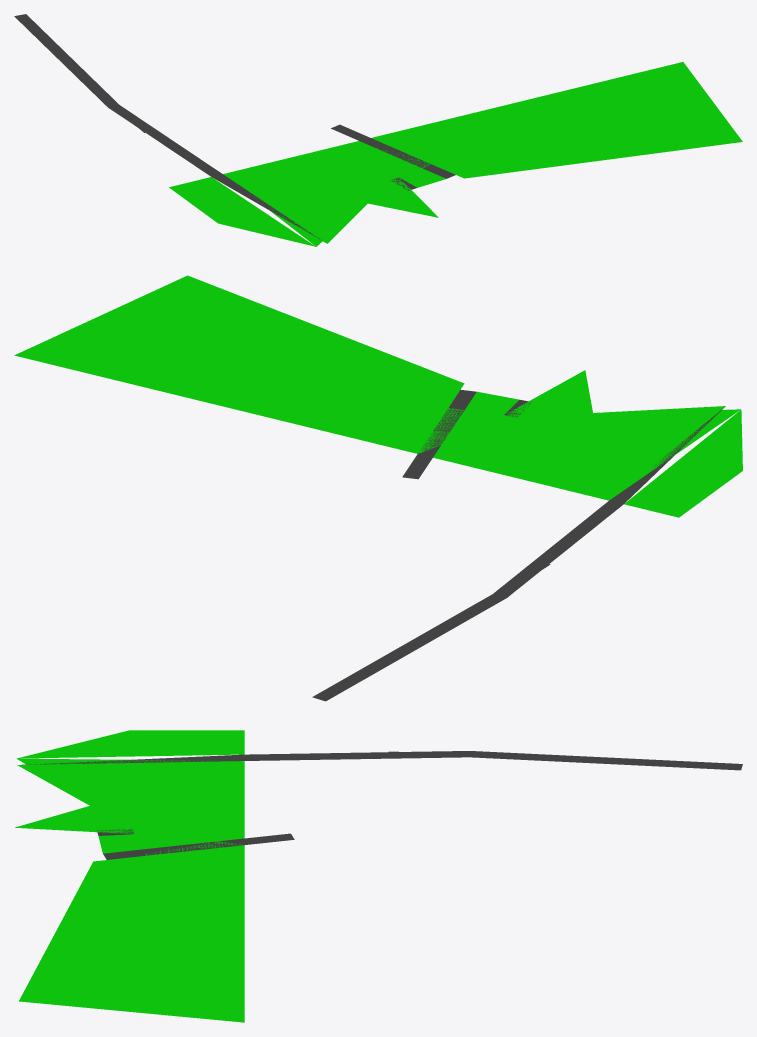
The picture shows the model from 3 angles, top to bottom: view 1: azimuth 30°, elevation 25°; view 2: azimuth 150°, elevation 25°; view 3: azimuth 270°, elevation 25°; orthographic projection. The views are drawn at different scales.
Size of the model in its own units: 180 by 0 by 190.
